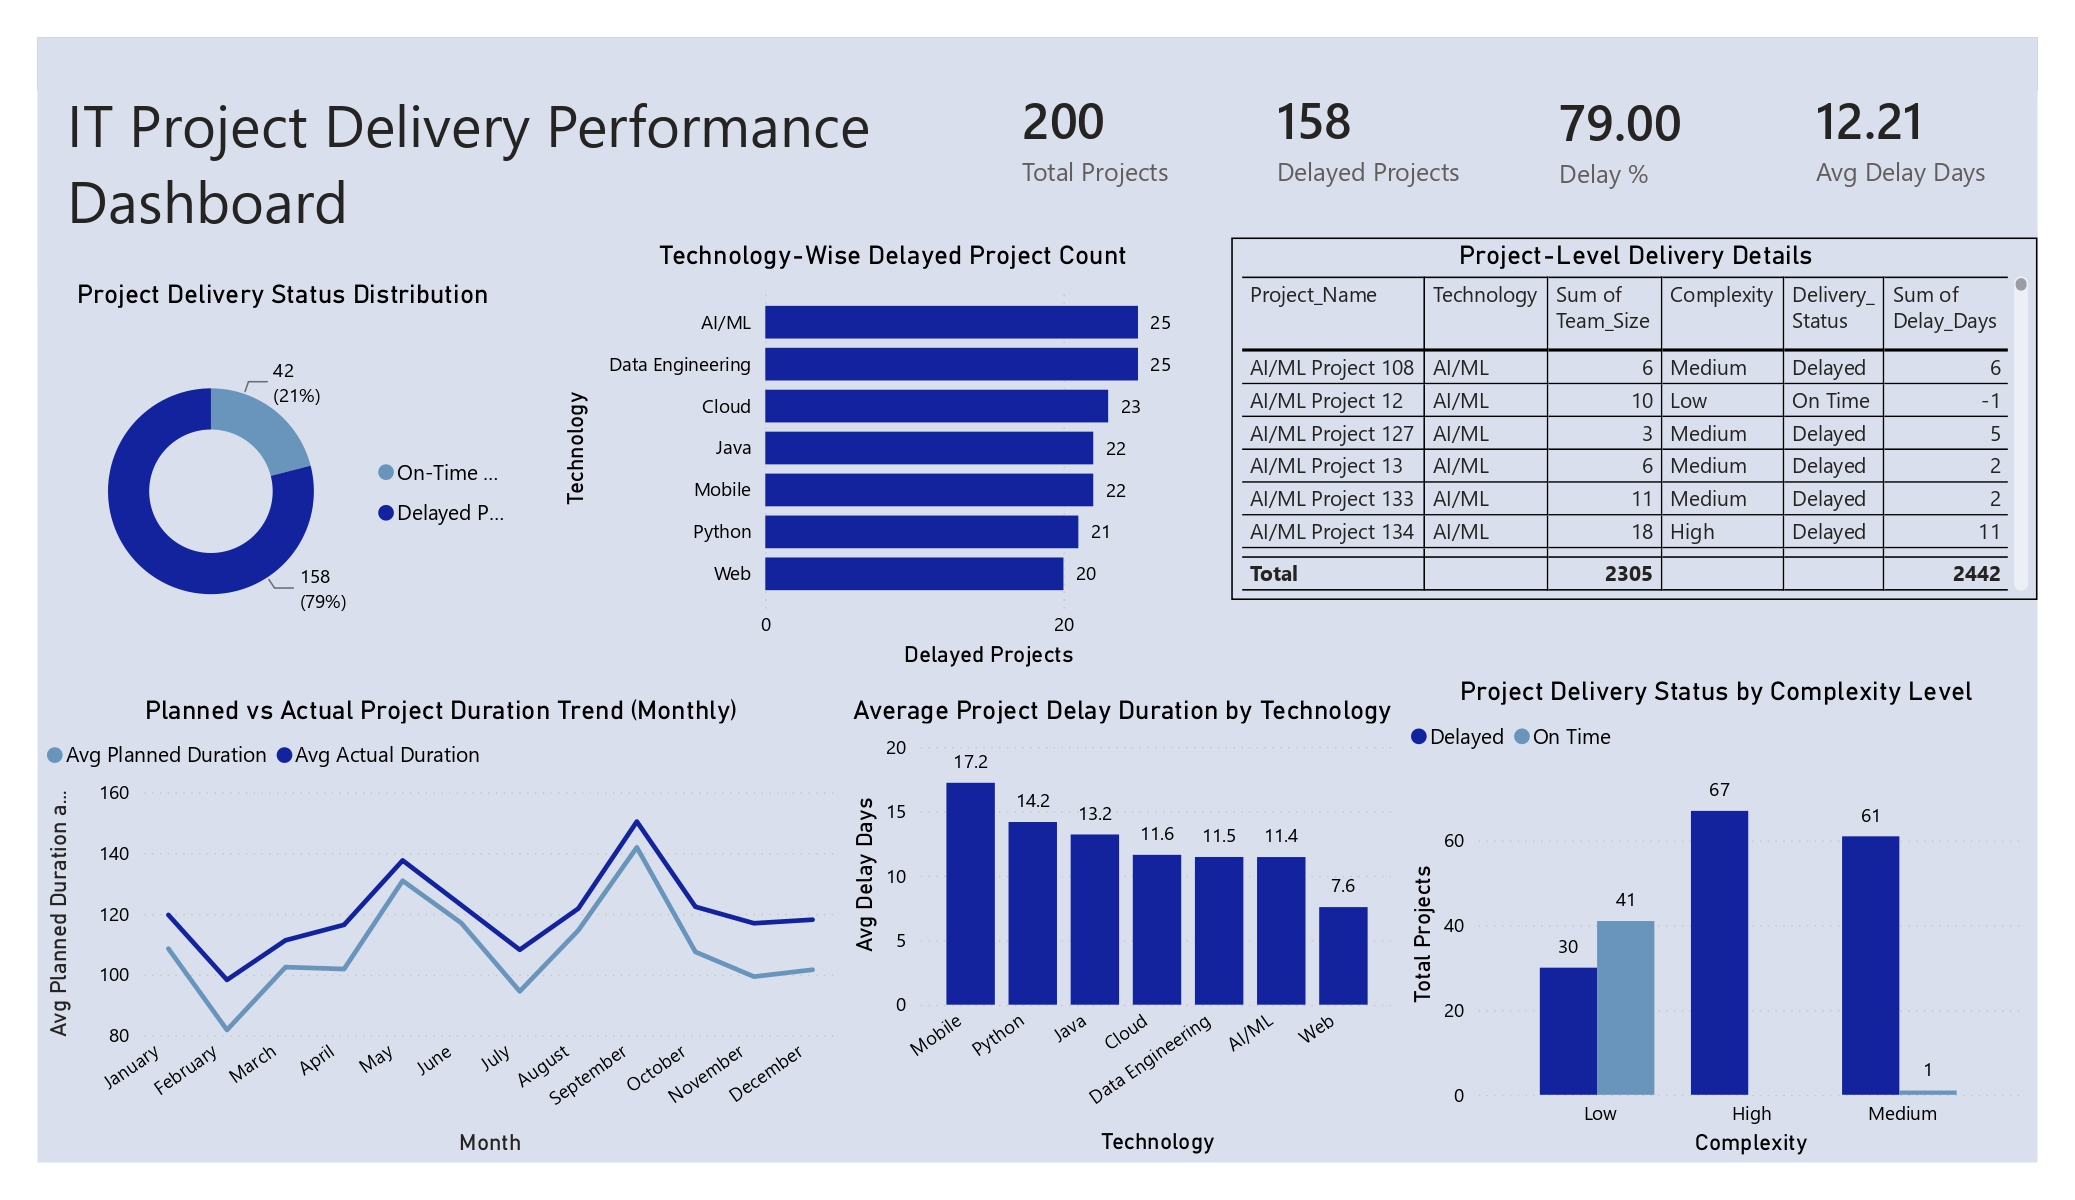

The page's visual inventory and layout, read from the dashboard file:
{"tool":"powerbi","page":{"name":"Page 1","canvas":[1280,720],"ordinal":0},"visuals":[{"type":"cardVisual","fields":{"Data":["IT_Project_Delivery.Delayed Projects"]},"box":[764.3,0,181.1,127.6],"z":0},{"type":"cardVisual","fields":{"Data":["IT_Project_Delivery.Delay %"]},"box":[945.5,1.4,163.3,127.6],"z":1000},{"type":"cardVisual","fields":{"Data":["IT_Project_Delivery.Total Projects"]},"box":[601,0,163.3,127.6],"z":2000},{"type":"cardVisual","fields":{"Data":["IT_Project_Delivery.Avg Delay Days"]},"box":[1108.8,0,171.5,127.6],"z":3000},{"type":"donutChart","title":"Project Delivery Status Distribution","fields":{"Y":["IT_Project_Delivery.On-Time Projects","IT_Project_Delivery.Delayed Projects"]},"box":[0,153.7,314.2,253.9],"z":4000},{"type":"barChart","title":"Technology-Wise Delayed Project Count","fields":{"Category":["IT_Project_Delivery.Technology"],"Y":["IT_Project_Delivery.Delayed Projects"]},"box":[330.7,129,433.6,278.6],"z":5000},{"type":"columnChart","title":"Average Project Delay Duration by Technology","fields":{"Category":["IT_Project_Delivery.Technology"],"Y":["IT_Project_Delivery.Avg Delay Days"]},"box":[516,419.9,356.8,300.5],"z":6000},{"type":"clusteredColumnChart","title":"Project Delivery Status by Complexity Level","fields":{"Category":["IT_Project_Delivery.Complexity"],"Y":["IT_Project_Delivery.Total Projects"],"Series":["IT_Project_Delivery.Delivery_Status"]},"box":[872.7,407.5,403.4,312.9],"z":7000},{"type":"lineChart","title":"Planned vs Actual Project Duration Trend (Monthly)","fields":{"Category":["IT_Project_Delivery.Start_Date.Variation.Date Hierarchy.Month"],"Y":["IT_Project_Delivery.Avg Planned Duration","IT_Project_Delivery.Avg Actual Duration"]},"box":[0,419.9,516,300.5],"z":8000},{"type":"tableEx","title":"Project-Level Delivery Details","fields":{"Values":["IT_Project_Delivery.Project_Name","IT_Project_Delivery.Technology","Sum(IT_Project_Delivery.Team_Size)","IT_Project_Delivery.Complexity","IT_Project_Delivery.Delivery_Status","Sum(IT_Project_Delivery.Delay_Days)"]},"box":[764.3,127.6,516,231.9],"z":9000},{"type":"textbox","box":[13.7,24.7,587.3,129],"z":10000}]}

Visuals, with their boxes on the page's 1280x720 design canvas (x1, y1, x2, y2). These are canvas units, not pixel positions in the 2075x1200 screenshot, which may show the page scaled, cropped or inside an application window:
cardVisual - IT_Project_Delivery.Delayed Projects: box=[764, 0, 945, 128]
cardVisual - IT_Project_Delivery.Delay %: box=[946, 1, 1109, 129]
cardVisual - IT_Project_Delivery.Total Projects: box=[601, 0, 764, 128]
cardVisual - IT_Project_Delivery.Avg Delay Days: box=[1109, 0, 1280, 128]
"Project Delivery Status Distribution" donutChart: box=[0, 154, 314, 408]
"Technology-Wise Delayed Project Count" barChart: box=[331, 129, 764, 408]
"Average Project Delay Duration by Technology" columnChart: box=[516, 420, 873, 720]
"Project Delivery Status by Complexity Level" clusteredColumnChart: box=[873, 408, 1276, 720]
"Planned vs Actual Project Duration Trend (Monthly)" lineChart: box=[0, 420, 516, 720]
"Project-Level Delivery Details" tableEx: box=[764, 128, 1280, 360]
textbox: box=[14, 25, 601, 154]
